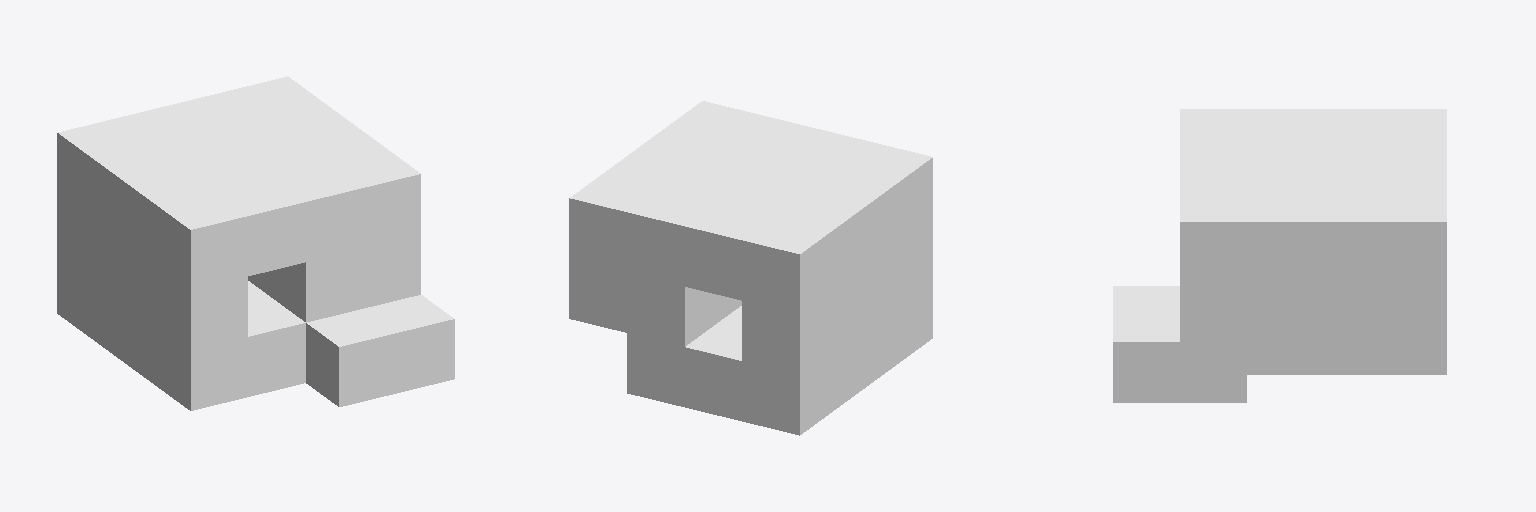
The model's file is male-53.obj.
3 views of the same model, side by side, from view 1: azimuth 30°, elevation 25°; view 2: azimuth 150°, elevation 25°; view 3: azimuth 270°, elevation 25° (orthographic).
Parts seen in each view (by area): view 1: object 1; view 2: object 1; view 3: object 1.
Boxes of the visible parts, x1,y1,x2,y2 form: object 1: [57, 76, 454, 410]; object 1: [569, 101, 932, 435]; object 1: [1113, 109, 1446, 402].
Bounding box in the file's own units: 0.4 × 0.3 × 0.5.